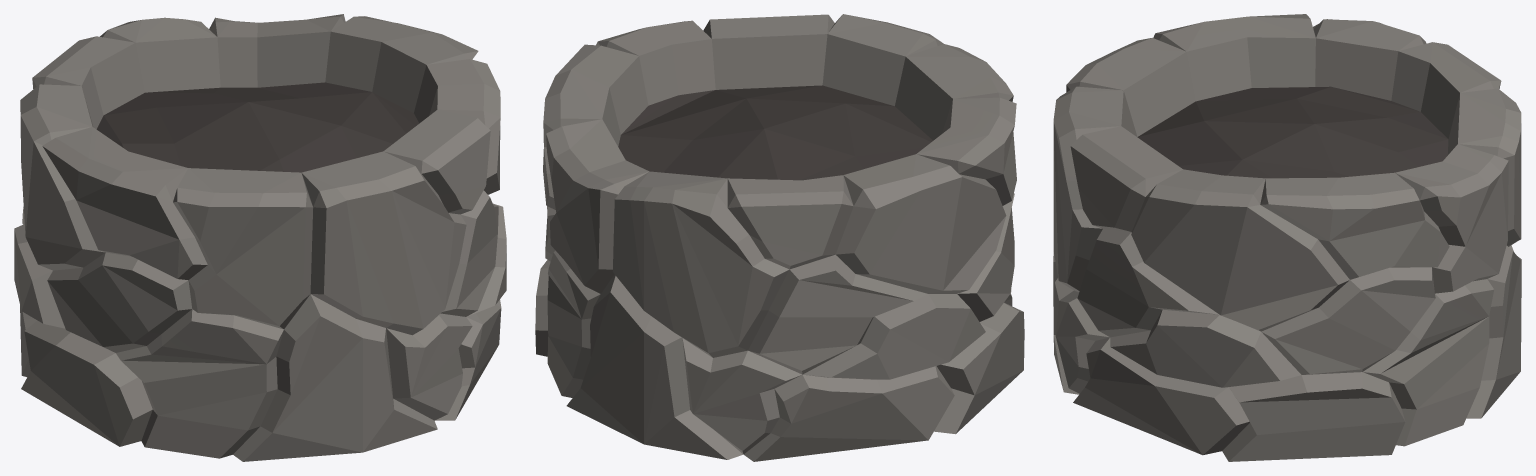
Rendered from rpgpp_ag_blacksmith_stove_01.fbx.
3 renders of one model, left to right at view 1: azimuth 30°, elevation 25°; view 2: azimuth 150°, elevation 25°; view 3: azimuth 270°, elevation 25°, orthographic. The views are drawn at different scales.
Visible parts, largest first — view 1: rpgpp_ag_blacksmith_stove_01; view 2: rpgpp_ag_blacksmith_stove_01; view 3: rpgpp_ag_blacksmith_stove_01.
Boxes of the visible parts, bbox=[...] form: rpgpp_ag_blacksmith_stove_01: bbox=[14, 14, 506, 461]; rpgpp_ag_blacksmith_stove_01: bbox=[535, 14, 1024, 461]; rpgpp_ag_blacksmith_stove_01: bbox=[1053, 14, 1521, 461].
Bounding box in the file's own units: 1.93 × 1.15 × 1.88.
